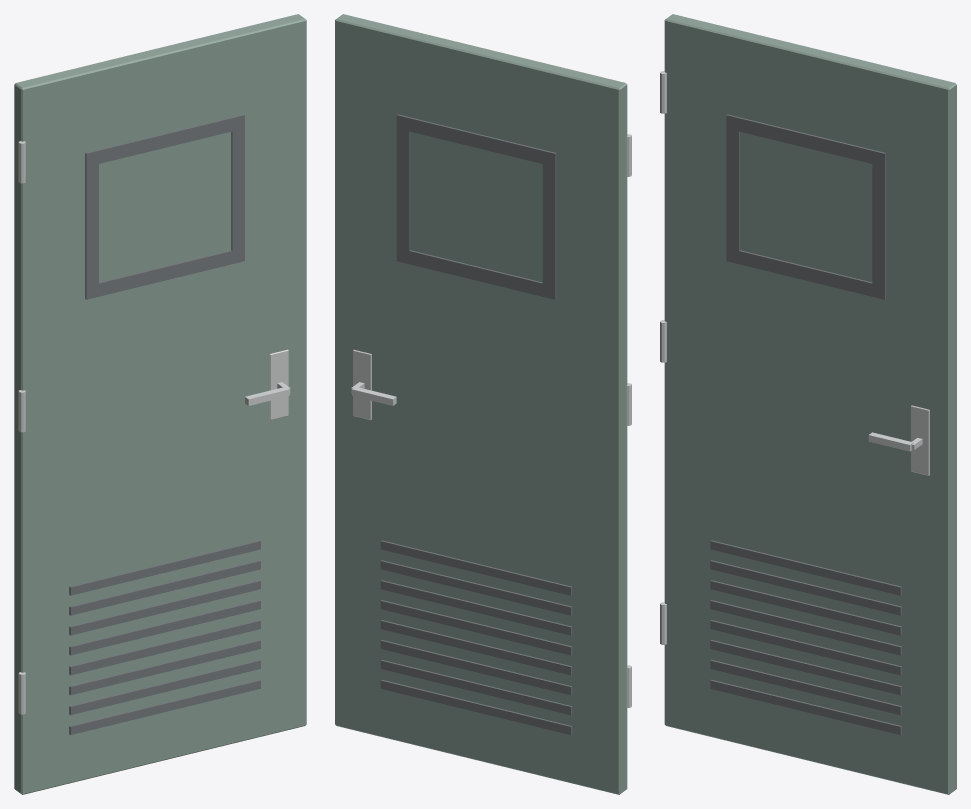
Rendered from door_leaf_steel.glb.
3 renders of one model, left to right at view 1: azimuth 30°, elevation 25°; view 2: azimuth 150°, elevation 25°; view 3: azimuth 330°, elevation 25°, orthographic.
Visible parts, largest first — view 1: door_leaf_steel_door, door_leaf_steel_steel_d, door_leaf_steel_galv; view 2: door_leaf_steel_door, door_leaf_steel_steel_d, door_leaf_steel_galv; view 3: door_leaf_steel_door, door_leaf_steel_steel_d, door_leaf_steel_galv.
Part boxes in pixels (left/top/right/bottom): door_leaf_steel_door: left=14, top=14, right=306, bottom=794; door_leaf_steel_steel_d: left=69, top=114, right=260, bottom=735; door_leaf_steel_galv: left=18, top=141, right=290, bottom=714; door_leaf_steel_door: left=335, top=14, right=627, bottom=794; door_leaf_steel_steel_d: left=380, top=114, right=572, bottom=734; door_leaf_steel_galv: left=351, top=134, right=631, bottom=707; door_leaf_steel_door: left=664, top=14, right=956, bottom=794; door_leaf_steel_steel_d: left=710, top=114, right=901, bottom=735; door_leaf_steel_galv: left=660, top=71, right=929, bottom=644.
Size of the model in its own units: 0.91 by 2.13 by 0.165.
